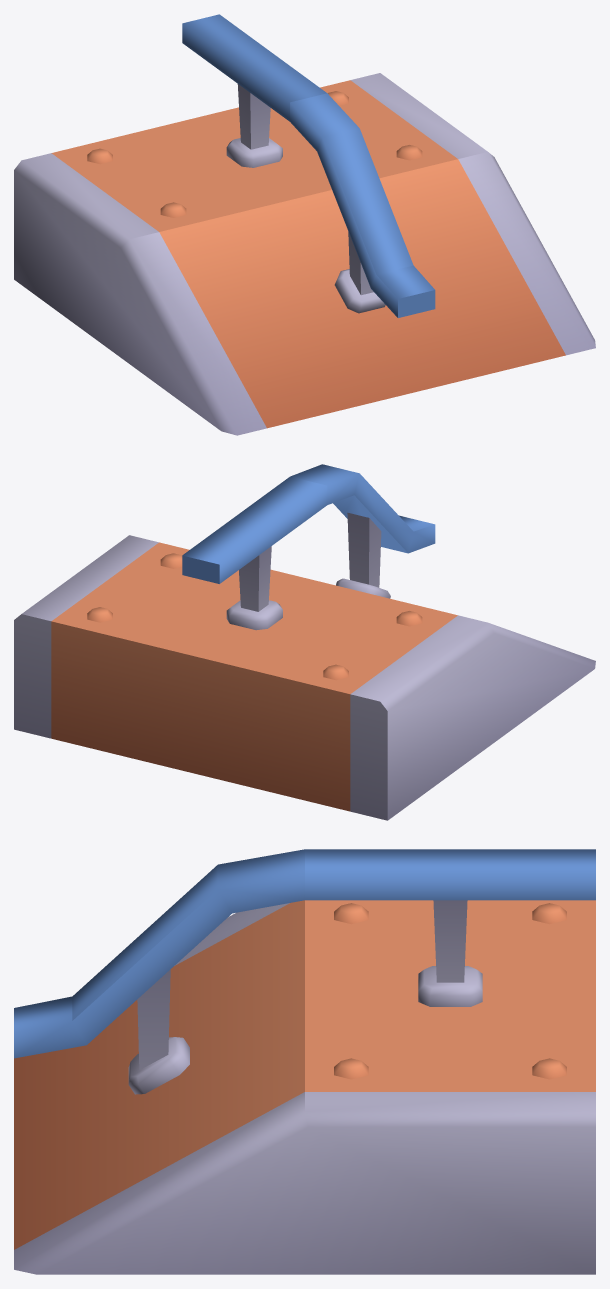
File: ramp-rail.glb
3 views of the same model, one above another, from view 1: azimuth 30°, elevation 25°; view 2: azimuth 150°, elevation 25°; view 3: azimuth 270°, elevation 25° (orthographic). The views are drawn at different scales.
Parts seen in each view (by area): view 1: ramp-rail; view 2: ramp-rail; view 3: ramp-rail.
Part boxes in pixels (bbox=[...]): ramp-rail: bbox=[14, 14, 595, 435]; ramp-rail: bbox=[14, 464, 595, 820]; ramp-rail: bbox=[14, 849, 595, 1274].
Bounding box in the file's own units: 1 × 0.55 × 1.
Materials: 1 (1 with a texture image).
